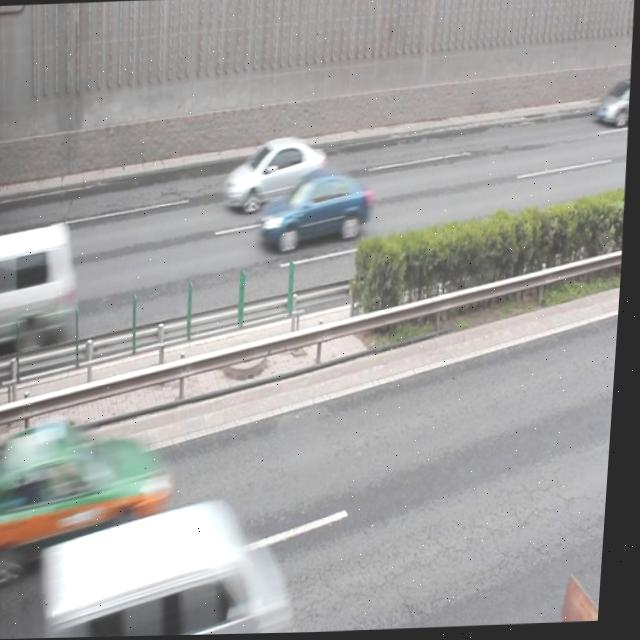car: (0, 414, 183, 567), (259, 166, 376, 253), (224, 134, 331, 213), (593, 78, 632, 131)
truck: (55, 493, 294, 638), (0, 222, 82, 349)
